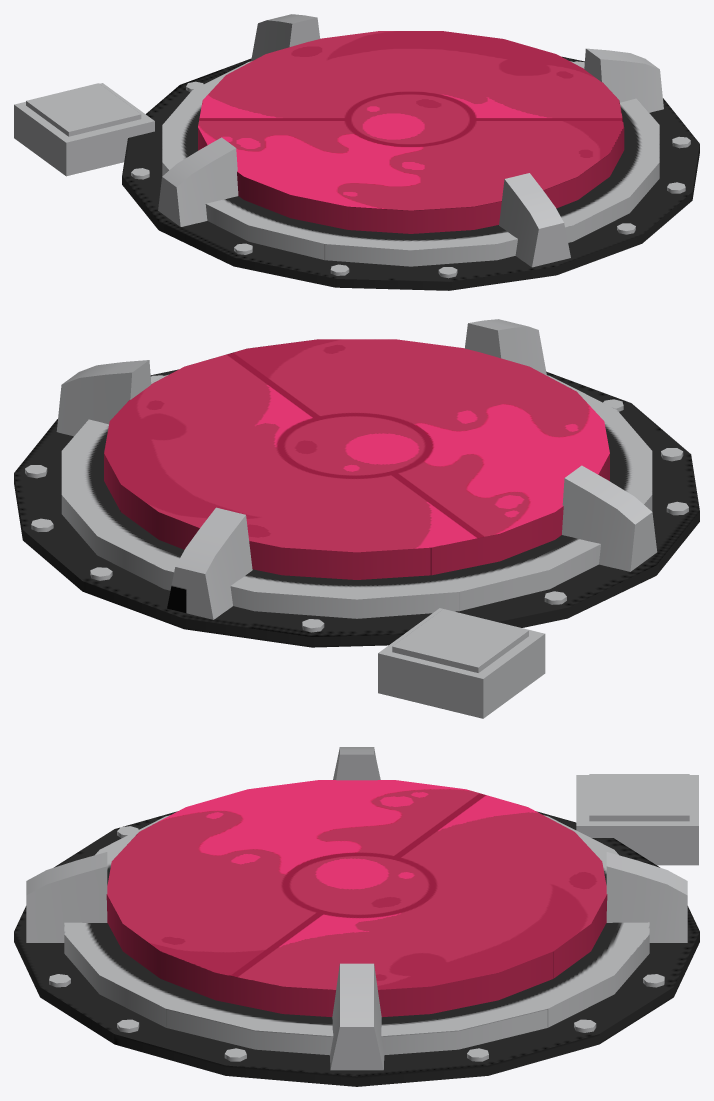
File: Placa Presion Final.FBX
The picture shows the model from 3 angles, top to bottom: view 1: azimuth 30°, elevation 25°; view 2: azimuth 150°, elevation 25°; view 3: azimuth 270°, elevation 25°; orthographic projection. The views are drawn at different scales.
Parts seen in each view (by area): view 1: Cylinder003, Cylinder001, Cylinder002, Box011, Box003, Box010, Box012, Box009, Box008; view 2: Cylinder003, Cylinder002, Cylinder001, Box011, Box003, Box008, Box012, Box009, Box010; view 3: Cylinder003, Cylinder002, Cylinder001, Box008, Box010, Box009, Box011, Box012, Box003.
Part boxes in pixels (left/top/right/bottom): Cylinder003: left=198, top=31, right=624, bottom=233; Cylinder001: left=122, top=56, right=699, bottom=290; Cylinder002: left=162, top=61, right=659, bottom=266; Box011: left=14, top=83, right=154, bottom=176; Box003: left=158, top=137, right=238, bottom=226; Box010: left=499, top=173, right=570, bottom=267; Box012: left=26, top=83, right=141, bottom=136; Box009: left=584, top=48, right=663, bottom=112; Box008: left=251, top=14, right=320, bottom=61; Cylinder003: left=104, top=339, right=609, bottom=579; Cylinder002: left=61, top=374, right=652, bottom=618; Cylinder001: left=14, top=369, right=699, bottom=647; Box011: left=378, top=608, right=545, bottom=718; Box003: left=562, top=465, right=657, bottom=571; Box008: left=167, top=507, right=252, bottom=619; Box012: left=392, top=609, right=528, bottom=672; Box009: left=56, top=360, right=151, bottom=436; Box010: left=464, top=319, right=546, bottom=374; Cylinder003: left=106, top=780, right=607, bottom=1017; Cylinder002: left=64, top=815, right=649, bottom=1055; Cylinder001: left=14, top=811, right=699, bottom=1086; Box008: left=606, top=852, right=687, bottom=942; Box010: left=26, top=852, right=107, bottom=942; Box009: left=330, top=963, right=384, bottom=1070; Box011: left=576, top=775, right=698, bottom=865; Box012: left=589, top=774, right=689, bottom=821; Box003: left=333, top=747, right=380, bottom=780.
Bounding box in the file's own units: 60 × 9.63 × 60.
Materials: 20 (20 with a texture image).
